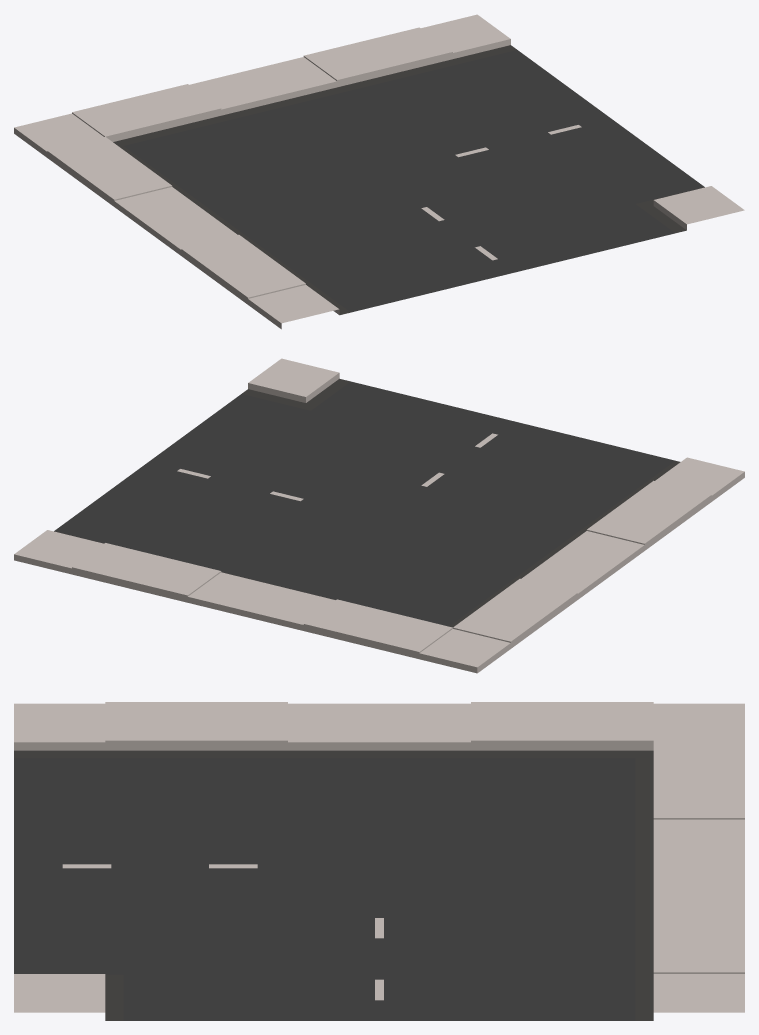
Rendered from quaternius-zombie-apocalypse-kit-march-street-turn.glb.
The picture shows the model from 3 angles, top to bottom: view 1: azimuth 30°, elevation 25°; view 2: azimuth 150°, elevation 25°; view 3: azimuth 270°, elevation 25°; orthographic projection. The views are drawn at different scales.
Parts seen in each view (by area): view 1: Street_Turn; view 2: Street_Turn; view 3: Street_Turn.
Part boxes in pixels (x1,y1,x2,y2): Street_Turn: [14, 14, 744, 329]; Street_Turn: [14, 358, 744, 673]; Street_Turn: [14, 702, 744, 1020].
Bounding box in the file's own units: 8 × 0.1201 × 8.
1 material, 1 textured.
